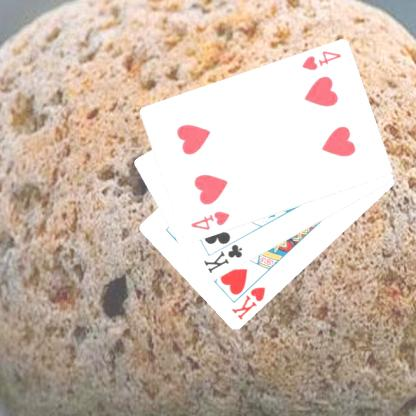4H: (298, 48, 342, 73), (188, 208, 231, 232)
KC: (200, 234, 244, 276)
KH: (228, 284, 268, 322)
